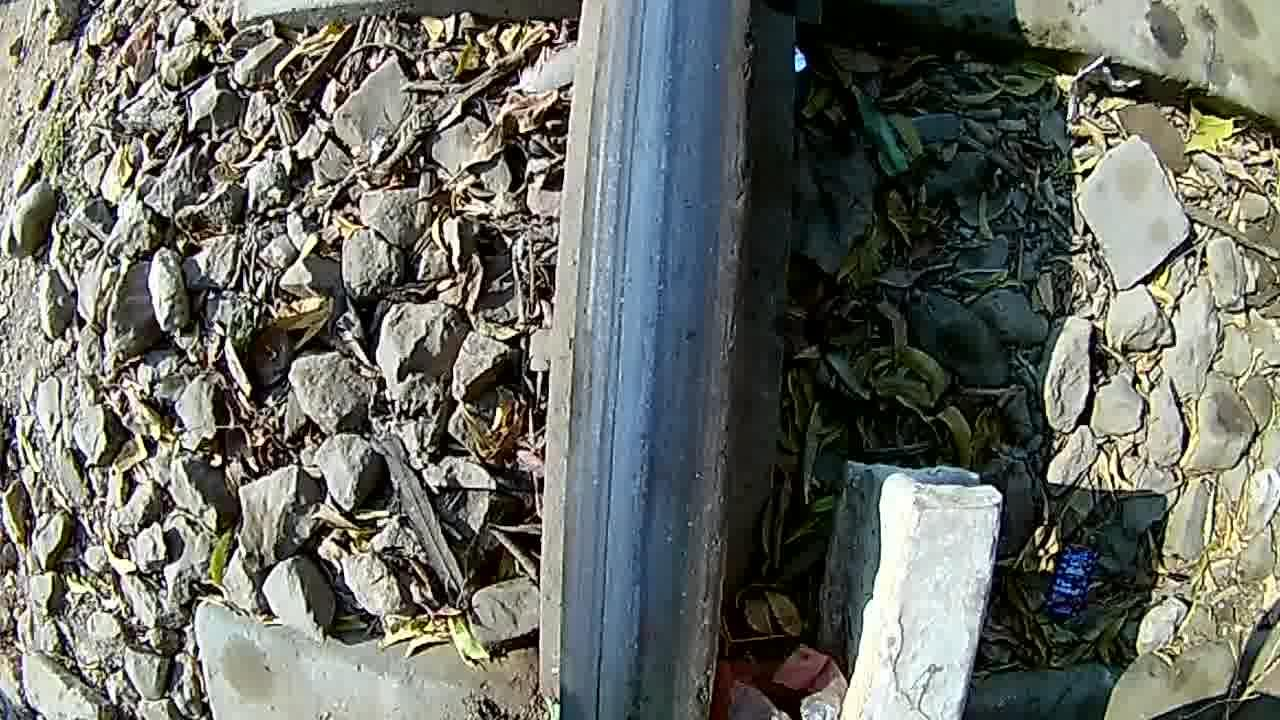clip_missing: (574, 0, 744, 720)
